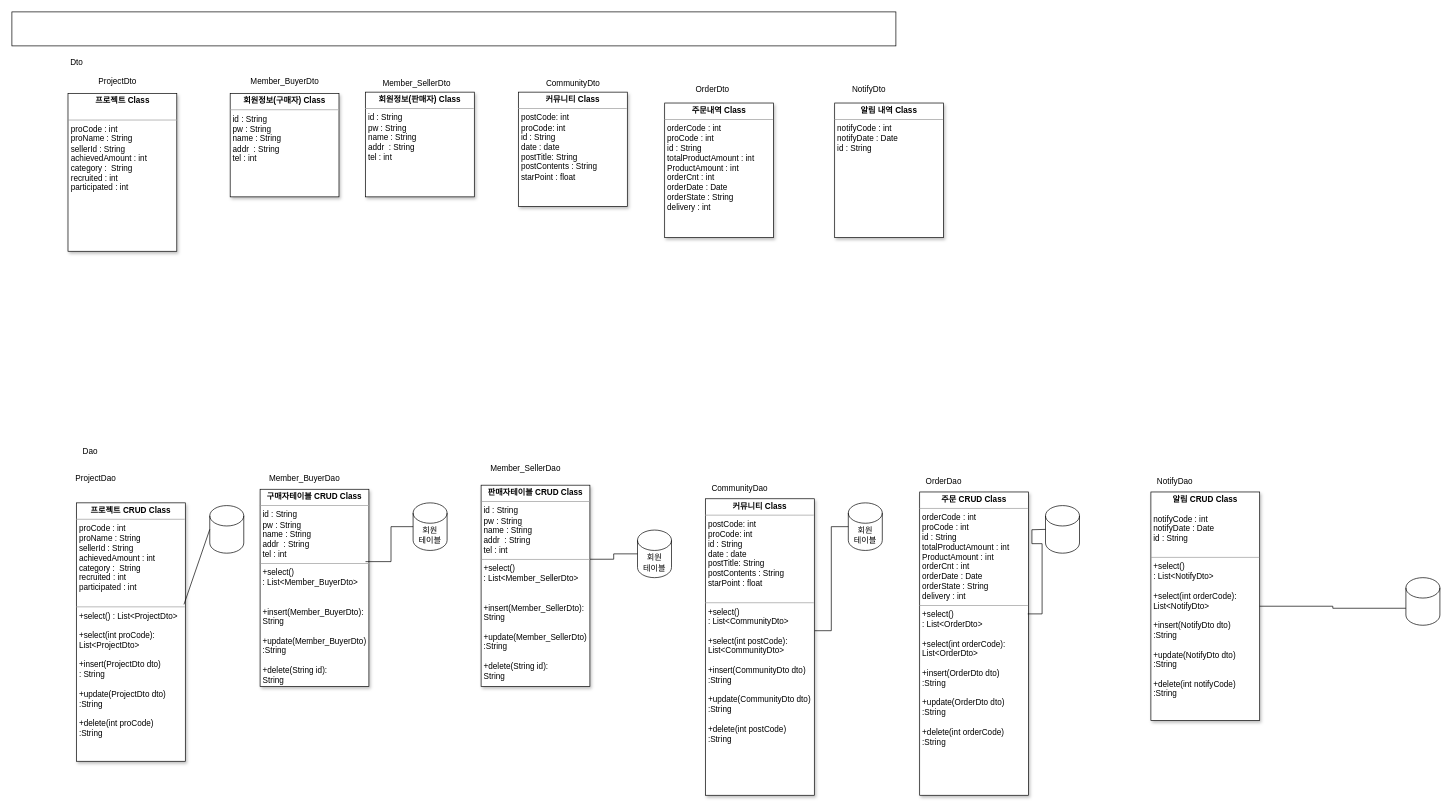
This 1452x812 diagram has some shape labels left out. The shapes that lost their labels are listed below. From the top down, each one's centre as x and y in pixels, then its label:
the point at 453,28: Persistence Layer(영속 계층) - DB 연결영역, 왠만해선 바뀌지 않는다
the point at 226,529: 프로젝트 테이블
the point at 1062,529: 대여 테이블
the point at 1422,601: 예약 테이블
